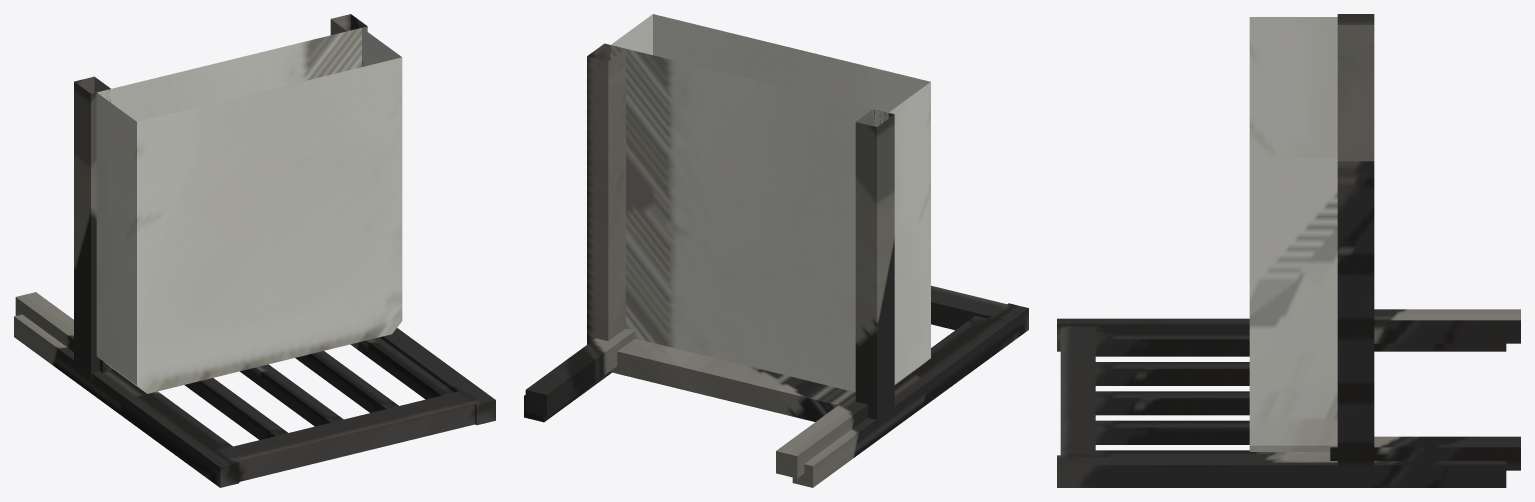
Rendered from pz_bed_bedding_01_fancy_0_0.obj.
The picture shows the model from 3 angles, left to right: view 1: azimuth 30°, elevation 25°; view 2: azimuth 150°, elevation 25°; view 3: azimuth 270°, elevation 25°; orthographic projection. The views are drawn at different scales.
Visible parts, largest first — view 1: root; view 2: root; view 3: root.
Part boxes in pixels (x1=…): root: x1=14, y1=14, x2=495, y2=487; root: x1=524, y1=14, x2=1028, y2=487; root: x1=1057, y1=14, x2=1520, y2=487.
Size of the model in its own units: 0.95 by 0.985 by 1.26.
Materials: 1 (1 with a texture image).
